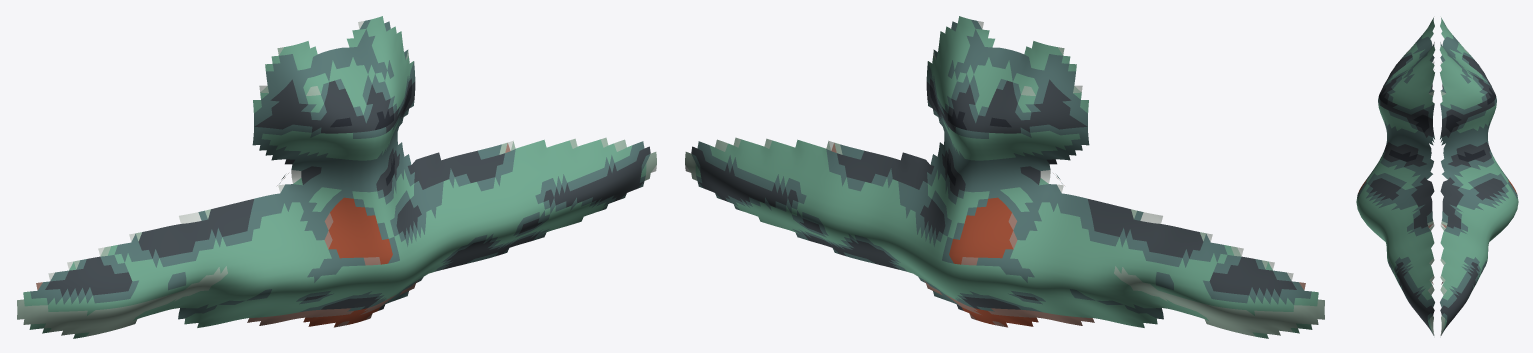
The model's file is paratoxin.glb.
The picture shows the model from 3 angles, left to right: view 1: azimuth 30°, elevation 25°; view 2: azimuth 150°, elevation 25°; view 3: azimuth 270°, elevation 25°; orthographic projection. The views are drawn at different scales.
Parts seen in each view (by area): view 1: paratoxin; view 2: paratoxin; view 3: paratoxin.
Boxes of the visible parts, x1,y1,x2,y2 form: paratoxin: [17, 16, 656, 338]; paratoxin: [685, 16, 1324, 338]; paratoxin: [1356, 17, 1518, 335].
Bounding box in the file's own units: 868 × 388 × 239.
